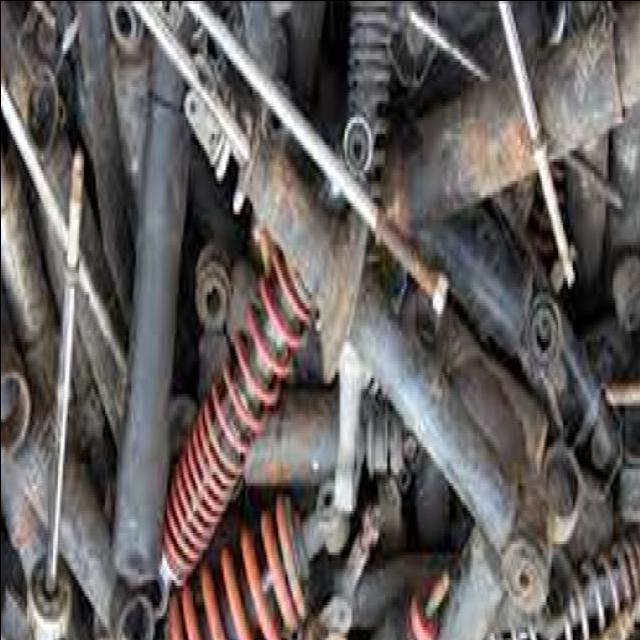shock absorber: (132, 3, 550, 611), (153, 239, 319, 620), (164, 472, 349, 639)
